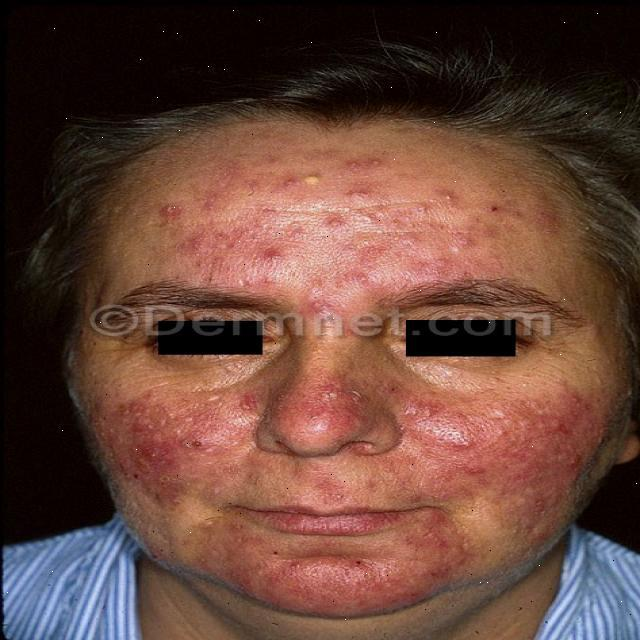images: (1, 30, 638, 638)
